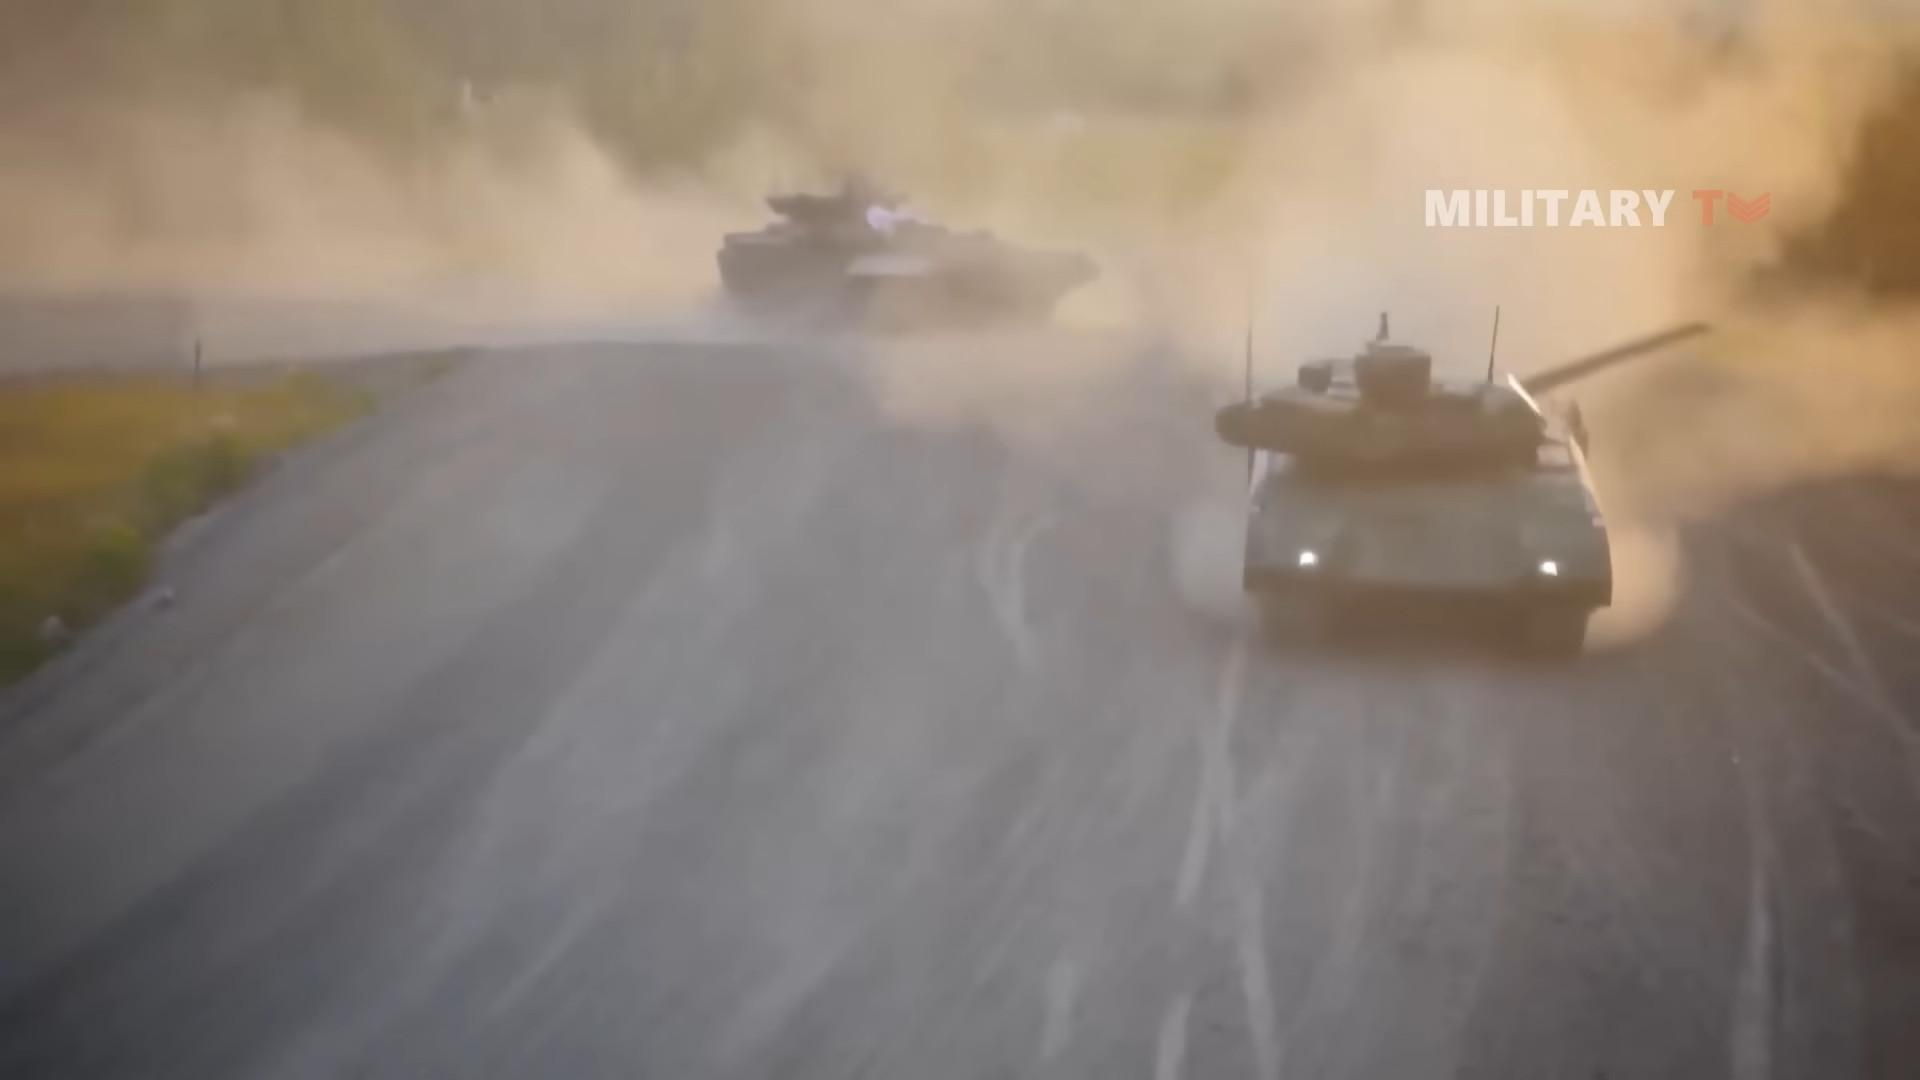tank: (1216, 313, 1708, 657)
